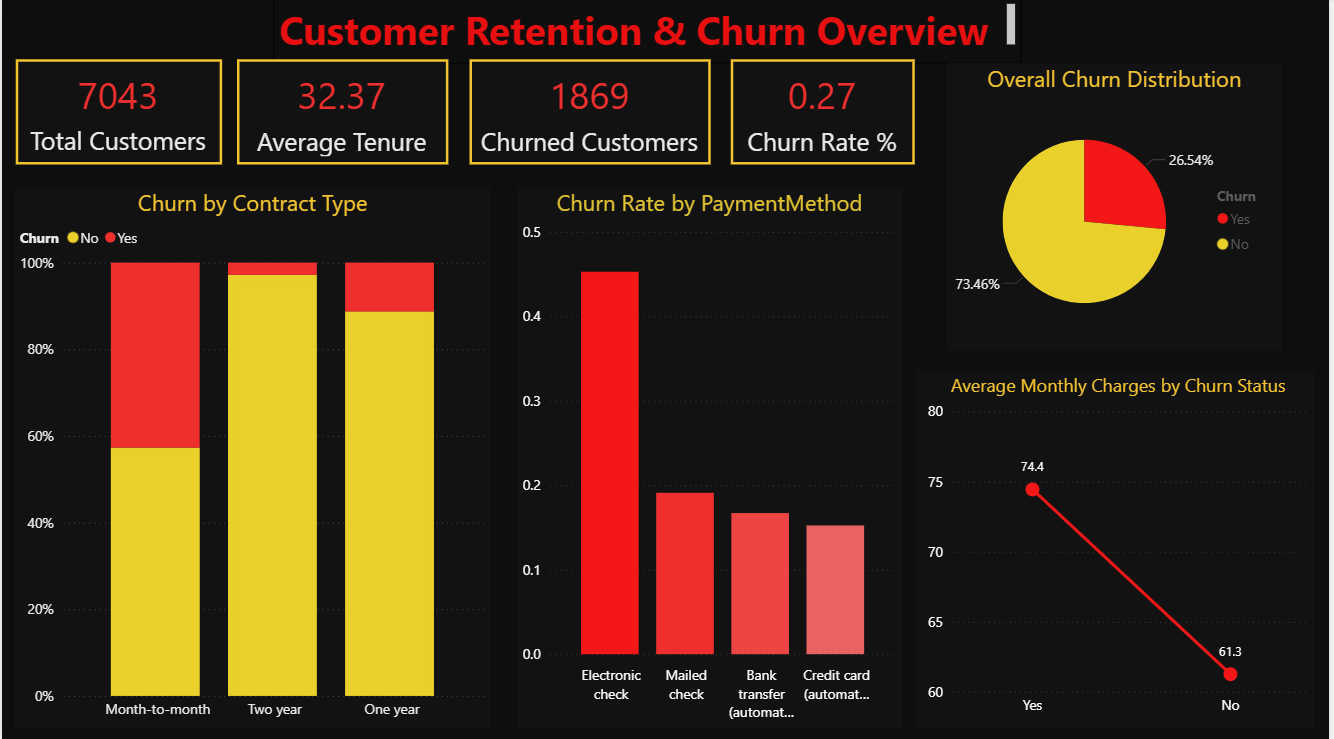

What the dashboard file says about the page in this screenshot:
{"tool":"powerbi","page":{"name":"Page 4","canvas":[1280,720],"ordinal":0},"visuals":[{"type":"textbox","box":[262.2,0,722.4,63.2],"z":0},{"type":"pieChart","title":"Overall Churn Distribution","fields":{"Category":["customer_churn.Churn"],"Y":["CountNonNull(customer_churn.customerID)"]},"box":[912.1,62.7,323.3,277.5],"z":1000},{"type":"hundredPercentStackedColumnChart","title":"Churn by Contract Type","fields":{"Category":["customer_churn.Contract"],"Y":["CountNonNull(customer_churn.customerID)"],"Series":["customer_churn.Churn"]},"box":[11.7,181.7,460,523.3],"z":2000},{"type":"columnChart","title":"Churn Rate by PaymentMethod","fields":{"Category":["customer_churn.PaymentMethod"],"Y":["customer_churn.Churn Rate %"]},"box":[496.7,181.7,371.7,523.3],"z":3000},{"type":"card","fields":{"Values":["customer_churn.Total Customers"]},"box":[13.3,59.1,199.1,101.3],"z":4000},{"type":"card","fields":{"Values":["customer_churn.Average Tenure"]},"box":[227,58.9,203.7,101.8],"z":5000},{"type":"card","fields":{"Values":["customer_churn.Churned Customers"]},"box":[451.5,58.9,233.1,101.8],"z":6000},{"type":"card","fields":{"Values":["customer_churn.Churn Rate %"]},"box":[703.1,58.9,177.9,101.8],"z":7000},{"type":"lineChart","title":"Average Monthly Charges by Churn Status","fields":{"Category":["customer_churn.Churn"],"Y":["Avg(customer_churn.MonthlyCharges)"]},"box":[881.7,360,385,345],"z":8000}]}

Visuals, with their boxes in screenshot pixels (x1, y1, x2, y2), scaled from the page's 1280x720 canvas onto the 1334x739 screenshot:
textbox: box=[273, 0, 1026, 65]
"Overall Churn Distribution" pieChart: box=[951, 64, 1288, 349]
"Churn by Contract Type" hundredPercentStackedColumnChart: box=[12, 186, 492, 724]
"Churn Rate by PaymentMethod" columnChart: box=[518, 186, 905, 724]
card - customer_churn.Total Customers: box=[14, 61, 221, 165]
card - customer_churn.Average Tenure: box=[237, 60, 449, 165]
card - customer_churn.Churned Customers: box=[471, 60, 713, 165]
card - customer_churn.Churn Rate %: box=[733, 60, 918, 165]
"Average Monthly Charges by Churn Status" lineChart: box=[919, 369, 1320, 724]
